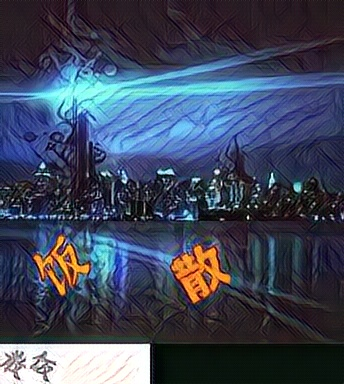B7B9: (30, 231, 93, 298)
C9A2: (169, 239, 232, 306)
